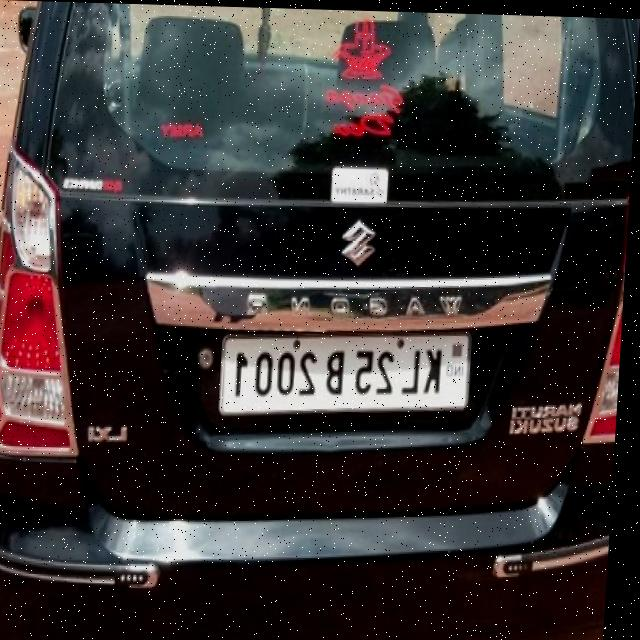plate: (225, 329, 473, 415)
